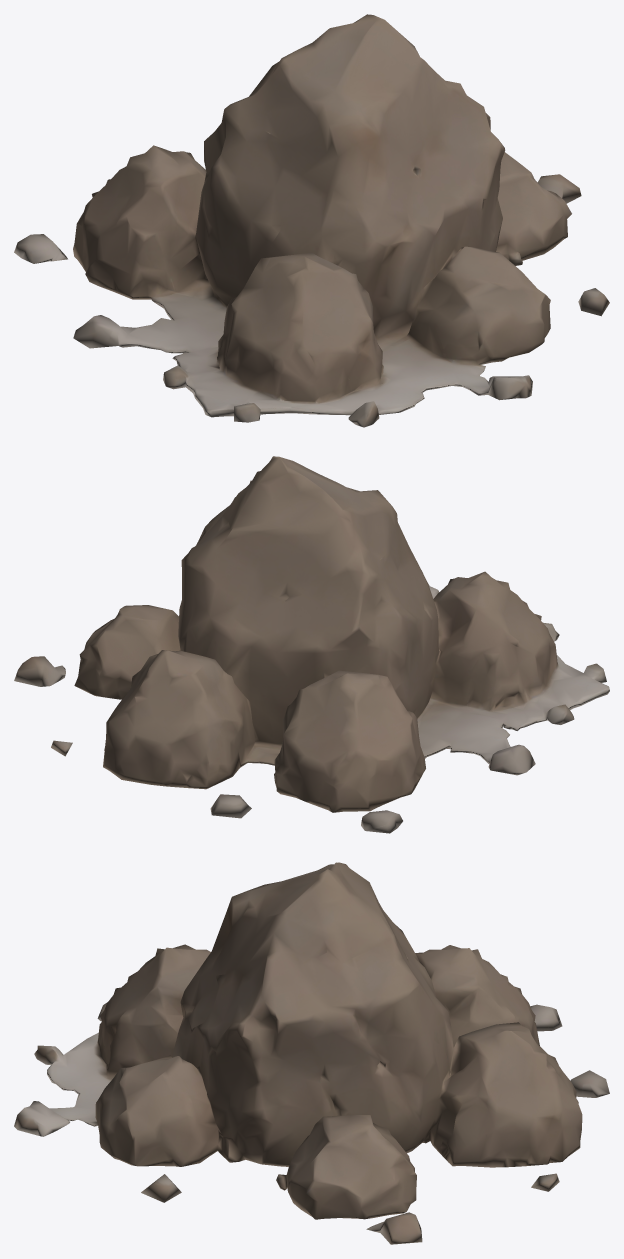
The model's file is rock+pile+3d+model (2).glb.
3 renders of one model, top to bottom at view 1: azimuth 30°, elevation 25°; view 2: azimuth 150°, elevation 25°; view 3: azimuth 270°, elevation 25°, orthographic. The views are drawn at different scales.
Parts seen in each view (by area): view 1: tripo_node_f1fada2b-0699-4256-aaf1-7bd61b77359f; view 2: tripo_node_f1fada2b-0699-4256-aaf1-7bd61b77359f; view 3: tripo_node_f1fada2b-0699-4256-aaf1-7bd61b77359f.
Part boxes in pixels (bbox=[...]): tripo_node_f1fada2b-0699-4256-aaf1-7bd61b77359f: bbox=[14, 14, 609, 427]; tripo_node_f1fada2b-0699-4256-aaf1-7bd61b77359f: bbox=[14, 456, 609, 833]; tripo_node_f1fada2b-0699-4256-aaf1-7bd61b77359f: bbox=[14, 862, 609, 1244].
Size of the model in its own units: 0.996 by 0.4807 by 1.
1 material, 1 textured.
